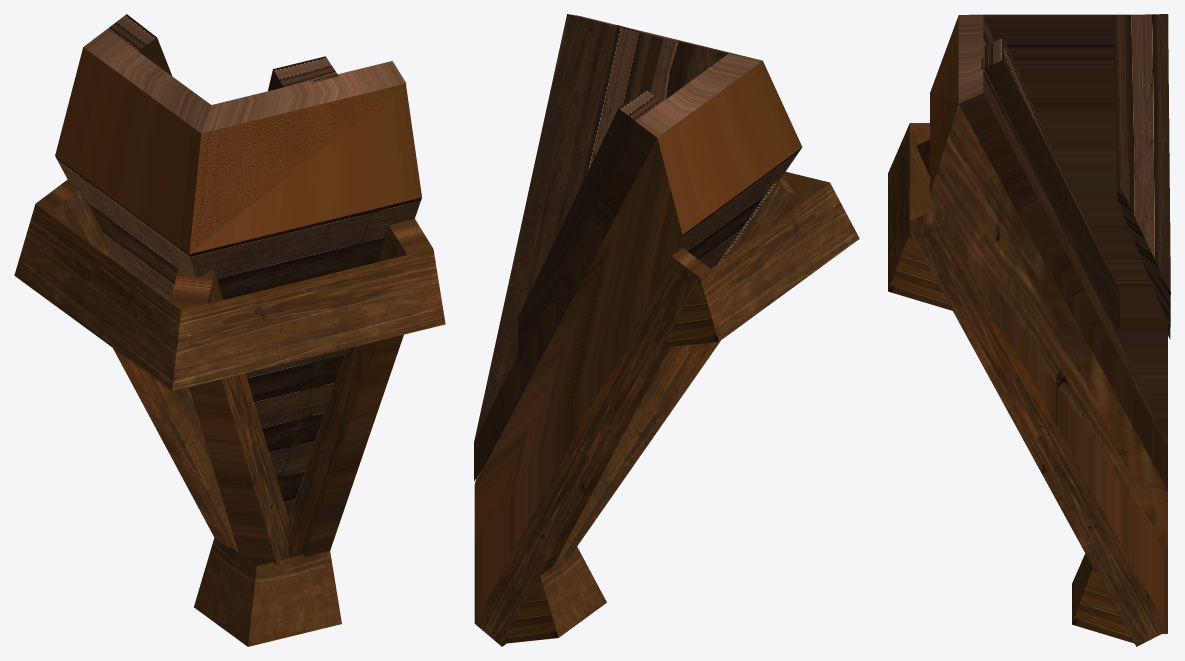
3 renders of one model, left to right at view 1: azimuth 30°, elevation 25°; view 2: azimuth 150°, elevation 25°; view 3: azimuth 270°, elevation 25°, orthographic. The views are drawn at different scales.
Visible parts, largest first — view 1: SM_BB_T2_Roof_Med_Valley_Steep_LOD0; view 2: SM_BB_T2_Roof_Med_Valley_Steep_LOD0; view 3: SM_BB_T2_Roof_Med_Valley_Steep_LOD0.
Boxes of the visible parts, x1,y1,x2,y2 form: SM_BB_T2_Roof_Med_Valley_Steep_LOD0: (14, 14, 445, 646); SM_BB_T2_Roof_Med_Valley_Steep_LOD0: (474, 14, 859, 646); SM_BB_T2_Roof_Med_Valley_Steep_LOD0: (888, 14, 1170, 646).
Size of the model in its own units: 1.03 by 2.26 by 1.03.
2 materials, 2 textured.
